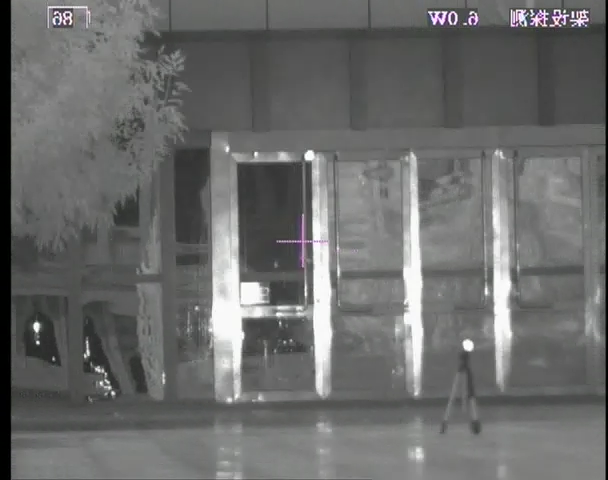my: (462, 338, 474, 353)
